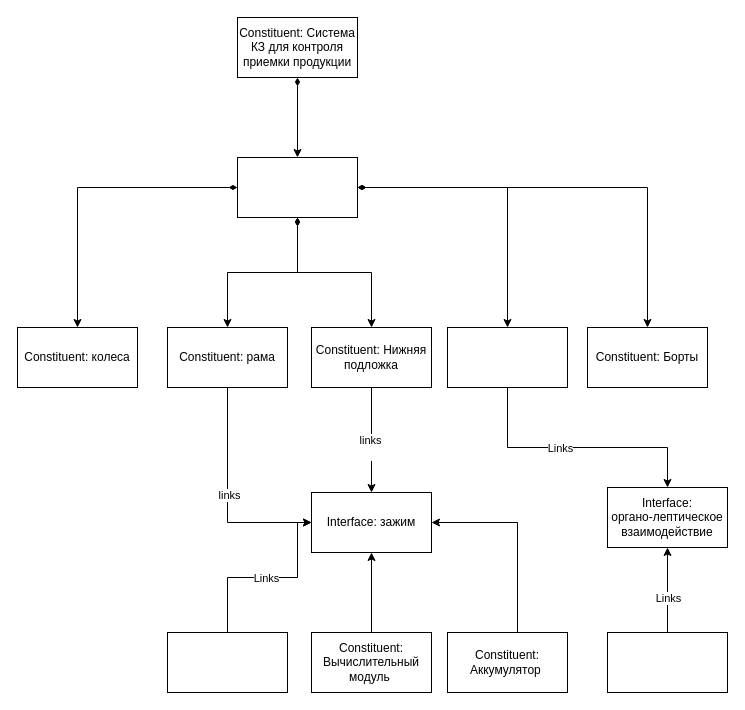
Image size: 745x710. Some labels were removed from this diagram. Each missing label, with the centre of its shape:
Constituent: Стол: the point at 297,187
Constituent: Столешница: the point at 507,357
Constituent: Технолог: the point at 667,662
Constituent: Штатив: the point at 227,662
